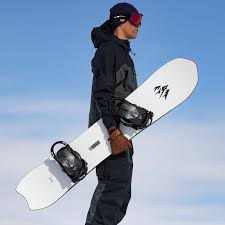snowboard: (14, 56, 200, 211)
